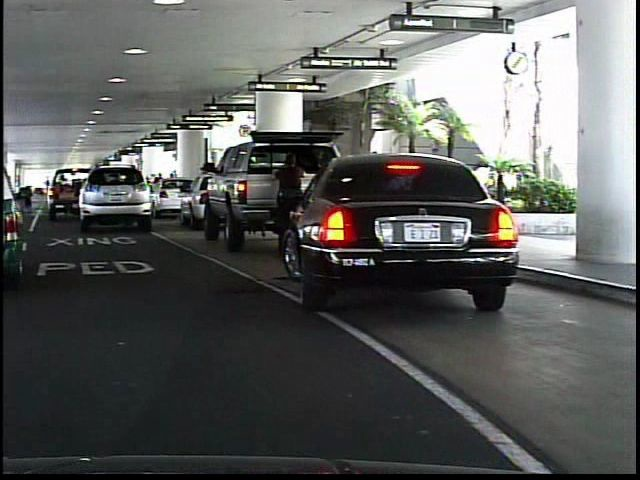person: (263, 150, 313, 253)
